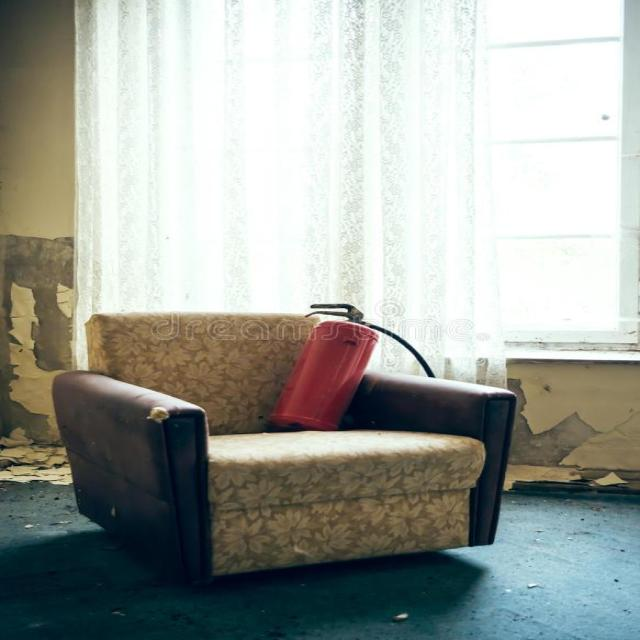fire_extinguisher: (254, 294, 466, 436)
